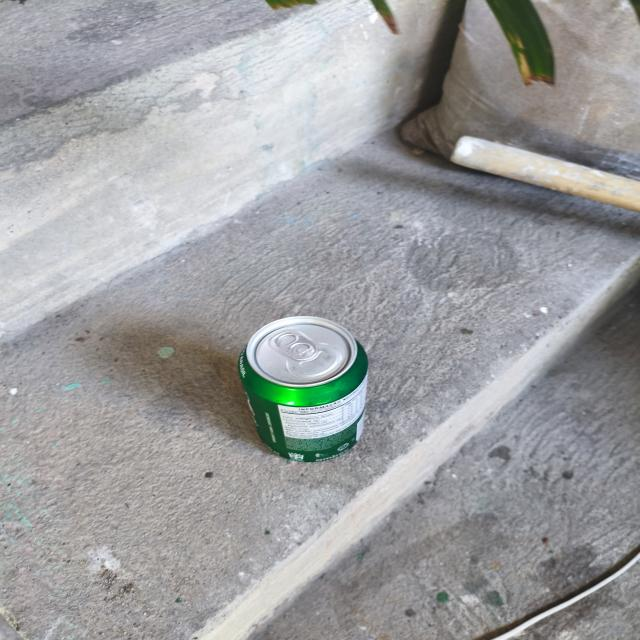Guarana: (218, 305, 386, 473)
